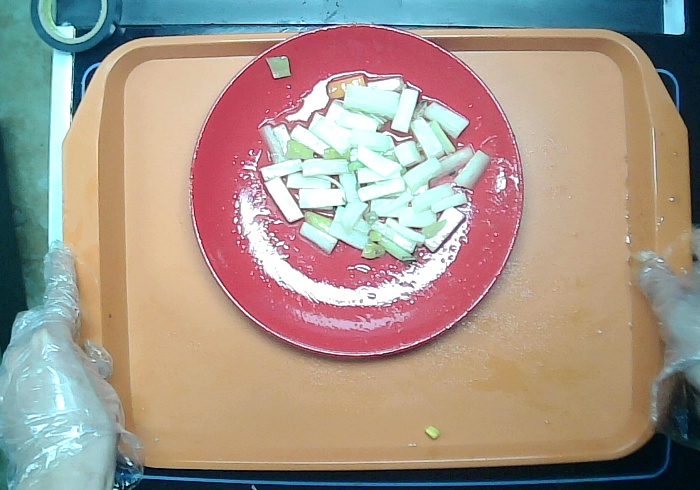HZYJPL-Hong_Se_Yuan_Pan: (187, 21, 526, 361)
